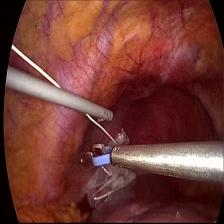Bipolar: (71, 138, 124, 172)
Irrigator: (95, 103, 117, 127)
Specimen Bag: (84, 172, 134, 216)
